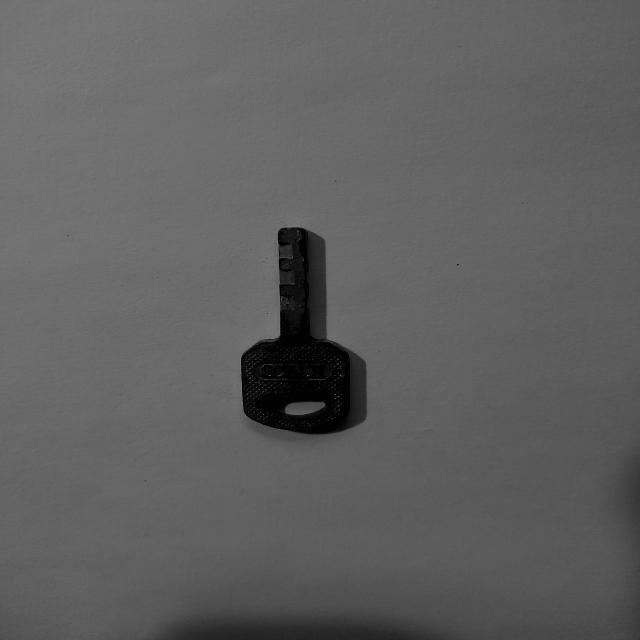key: (241, 227, 349, 431)
